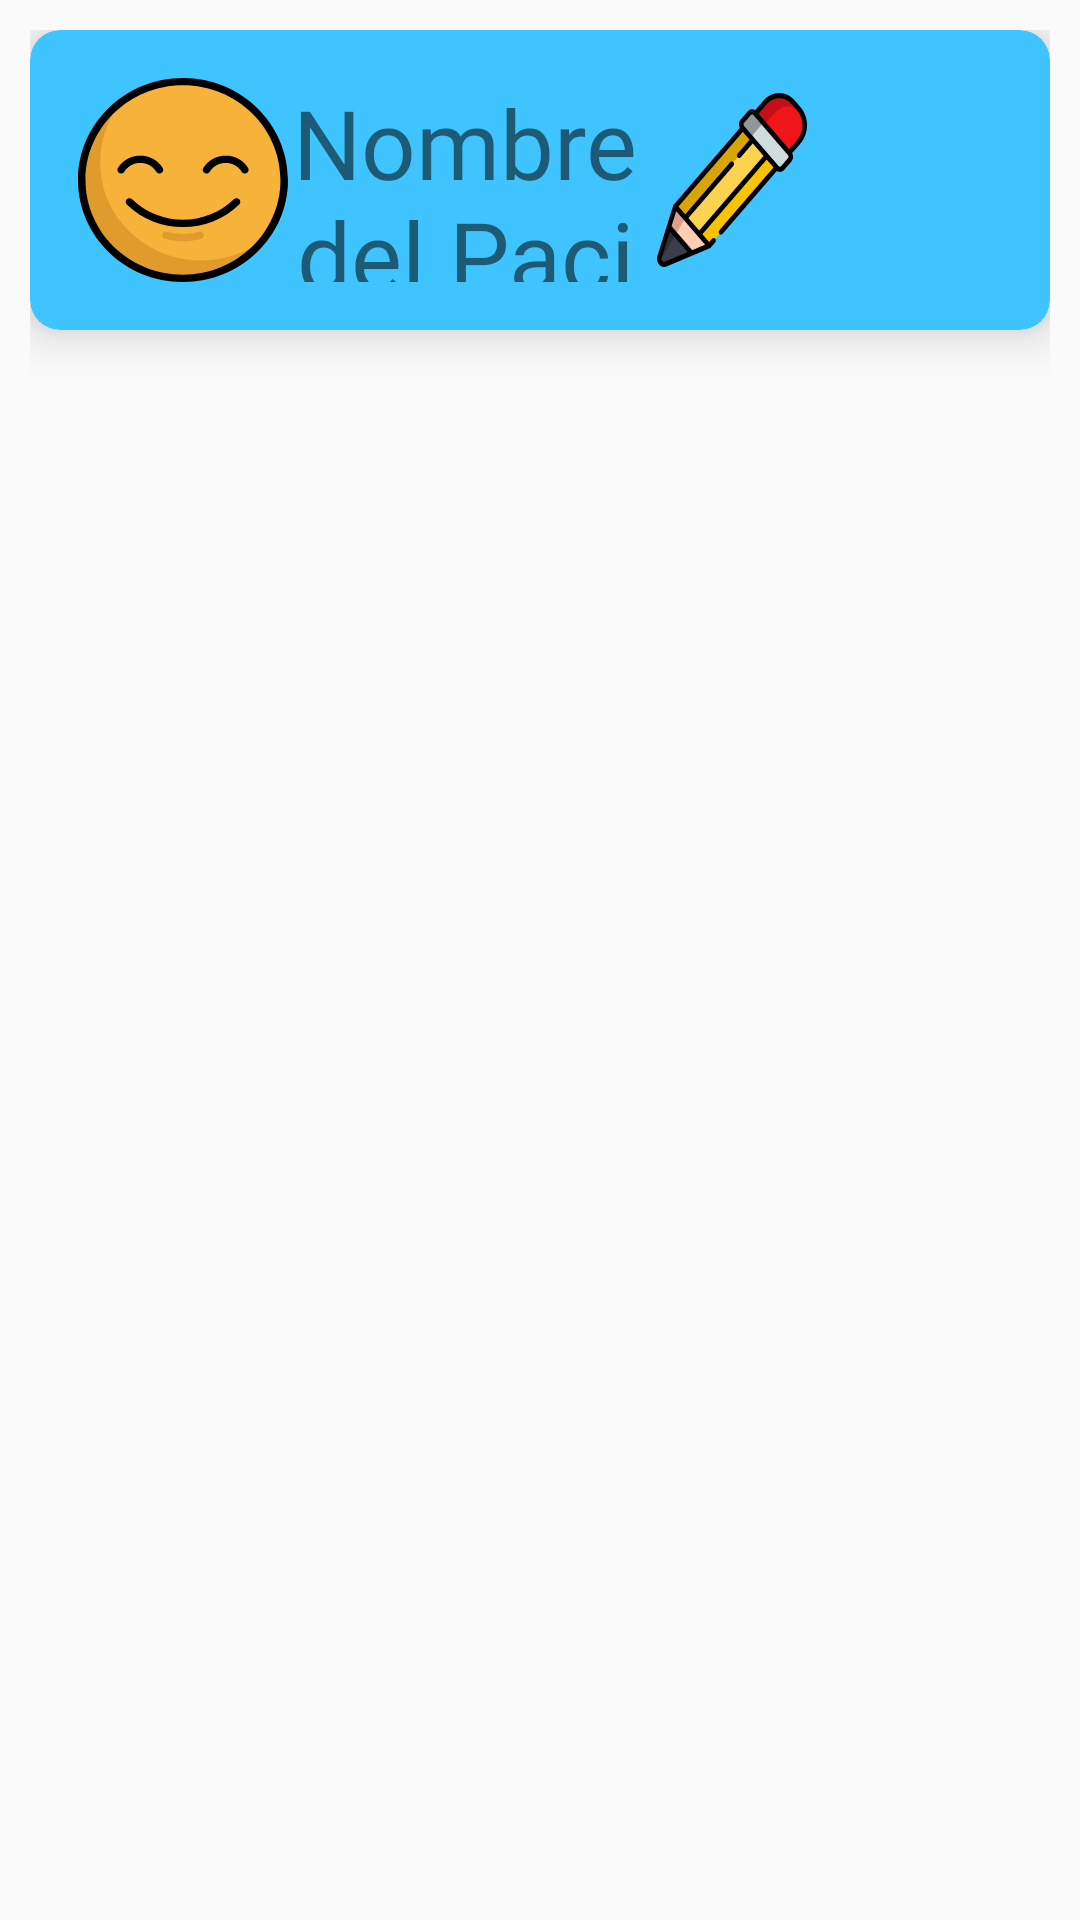

Locate icon controls on the screen. Image size 1080×1920, boxes as (x1, y1, x2, y2).
edit patient: (657, 93, 807, 267)
user list patient: (78, 78, 288, 282)
